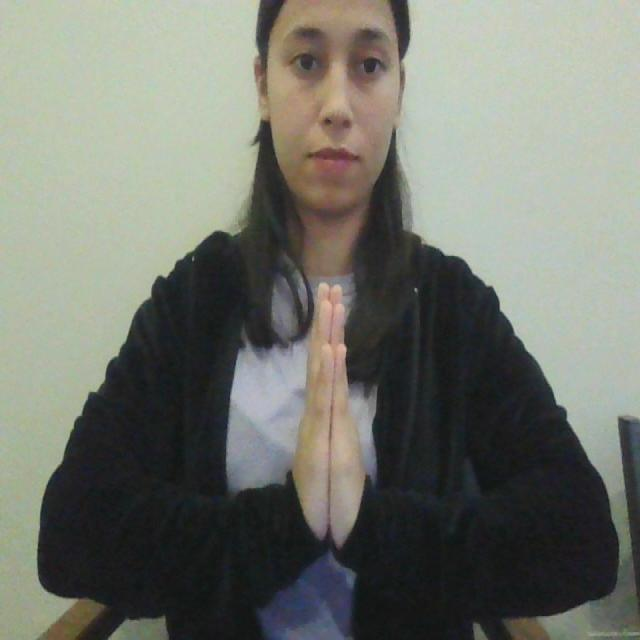Ozur-Dilemek: (284, 266, 373, 557)
